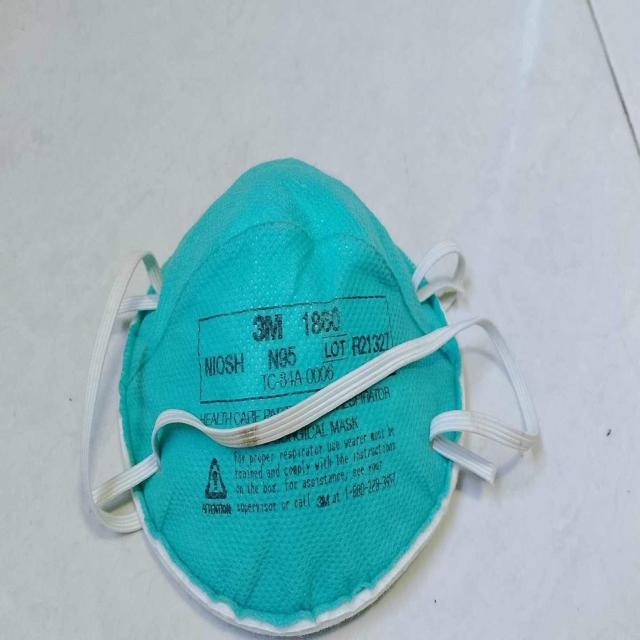General: (80, 156, 540, 635)
Sharps: (91, 308, 535, 524)
